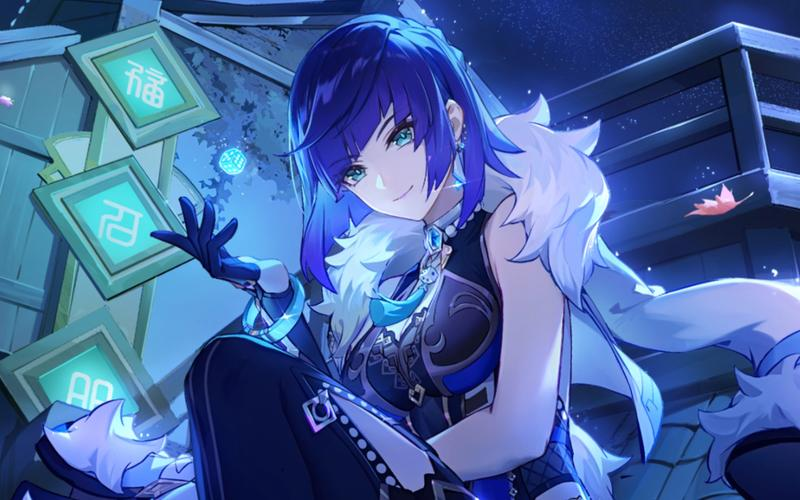夜兰: (149, 17, 593, 500)
